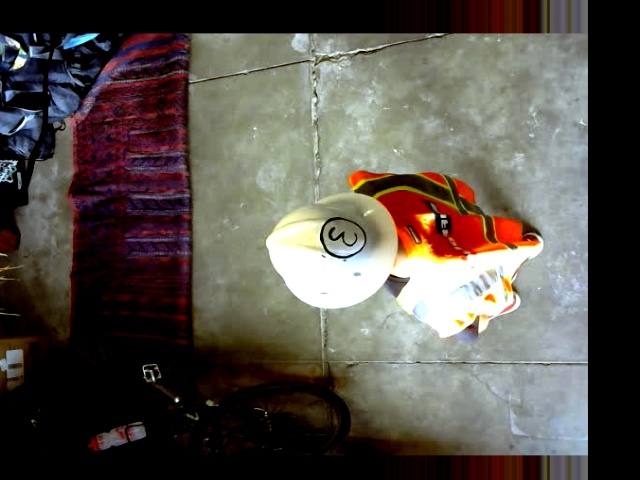three: (319, 216, 365, 257)
